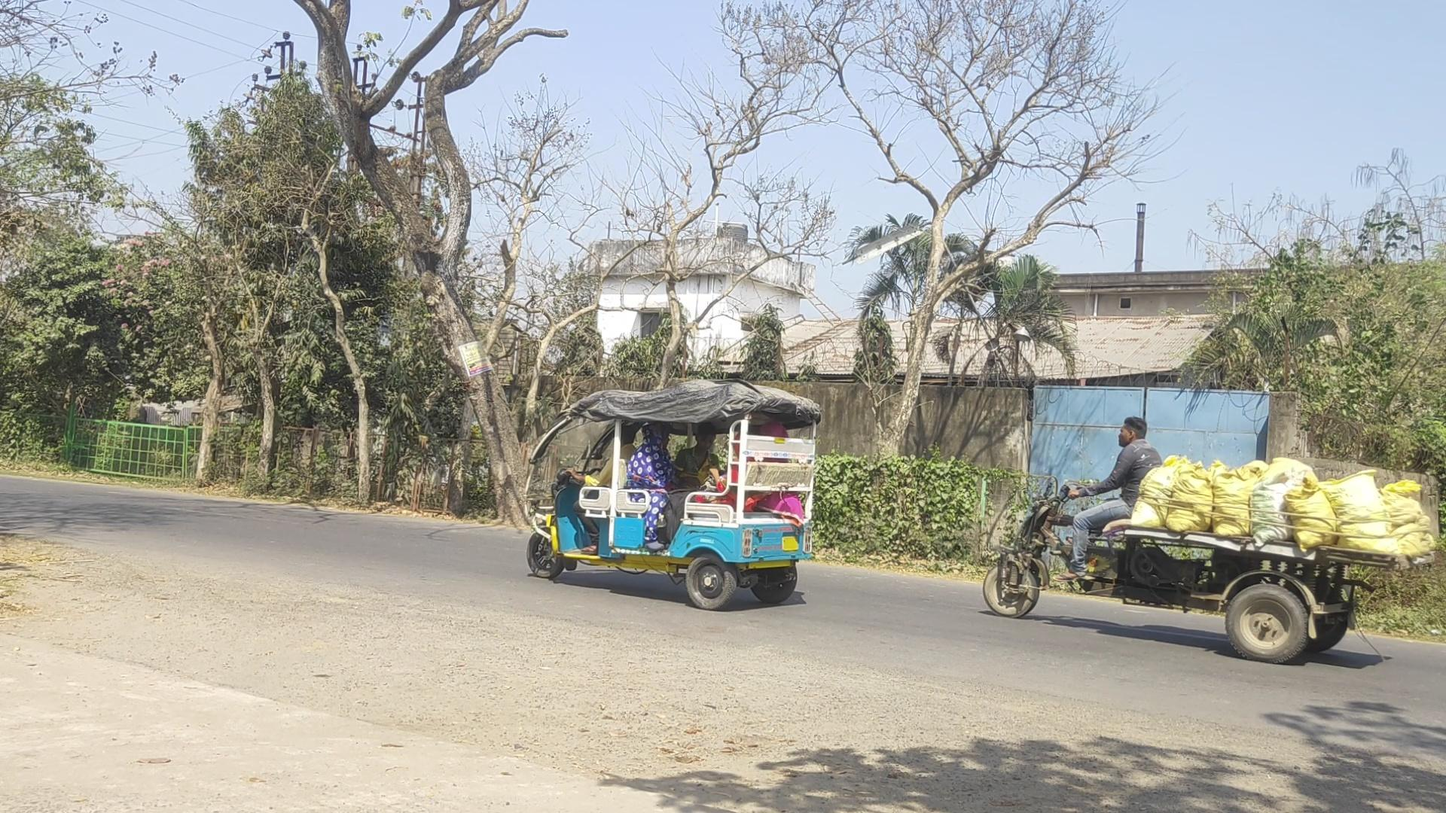Auto: (526, 375, 822, 608)
